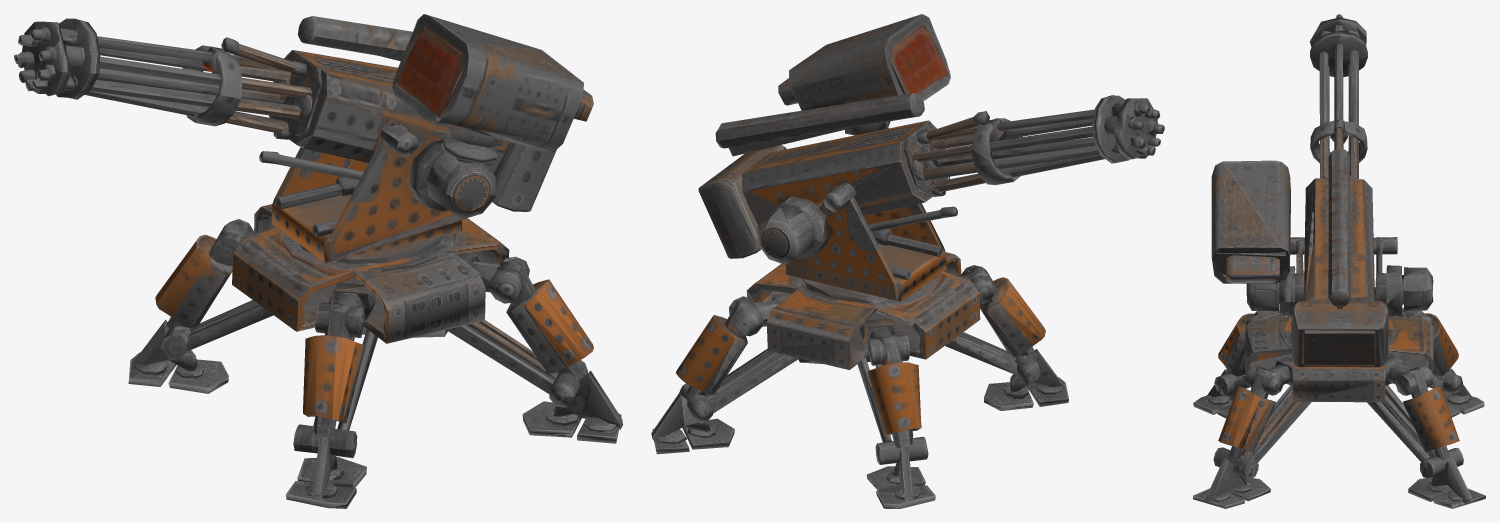
The model's file is Mecano.glb.
3 views of the same model, side by side, from view 1: azimuth 30°, elevation 25°; view 2: azimuth 150°, elevation 25°; view 3: azimuth 270°, elevation 25° (orthographic). The views are drawn at different scales.
Visible parts, largest first — view 1: mesh_node; view 2: mesh_node; view 3: mesh_node.
Part boxes in pixels (left/top/right/bottom): mesh_node: left=14, top=14, right=622, bottom=508; mesh_node: left=651, top=14, right=1164, bottom=508; mesh_node: left=1193, top=14, right=1485, bottom=508.
Bounding box in the file's own units: 1 × 0.8535 × 0.7012.
Materials: 1 (1 with a texture image).
